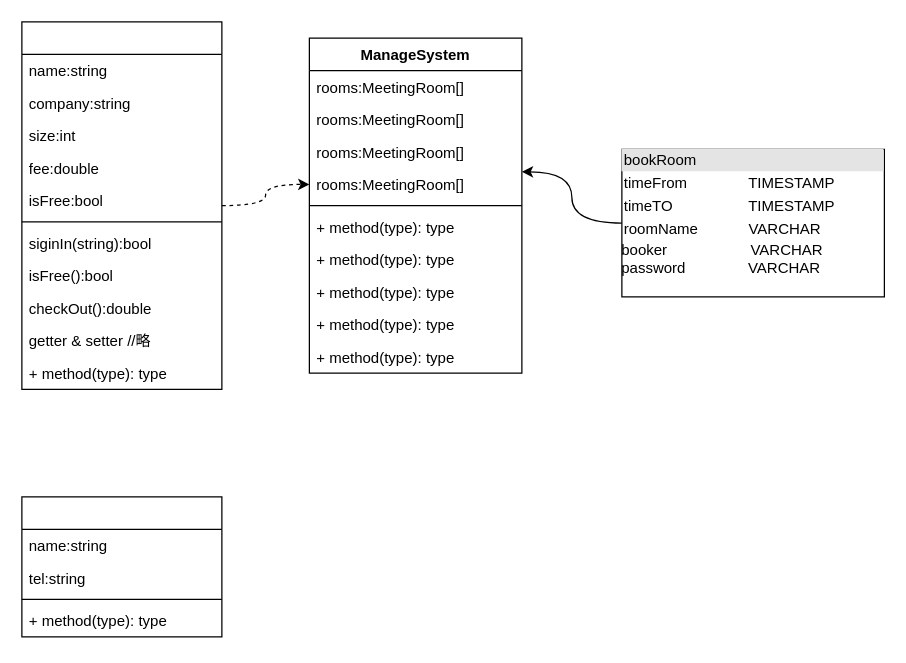
Some shapes in this 906 by 663 pixel diagram are drawn without their labels. Each missing label, with the box of its shape:
Company: (21, 496, 222, 637)
MeetingRoom: (21, 21, 222, 389)
